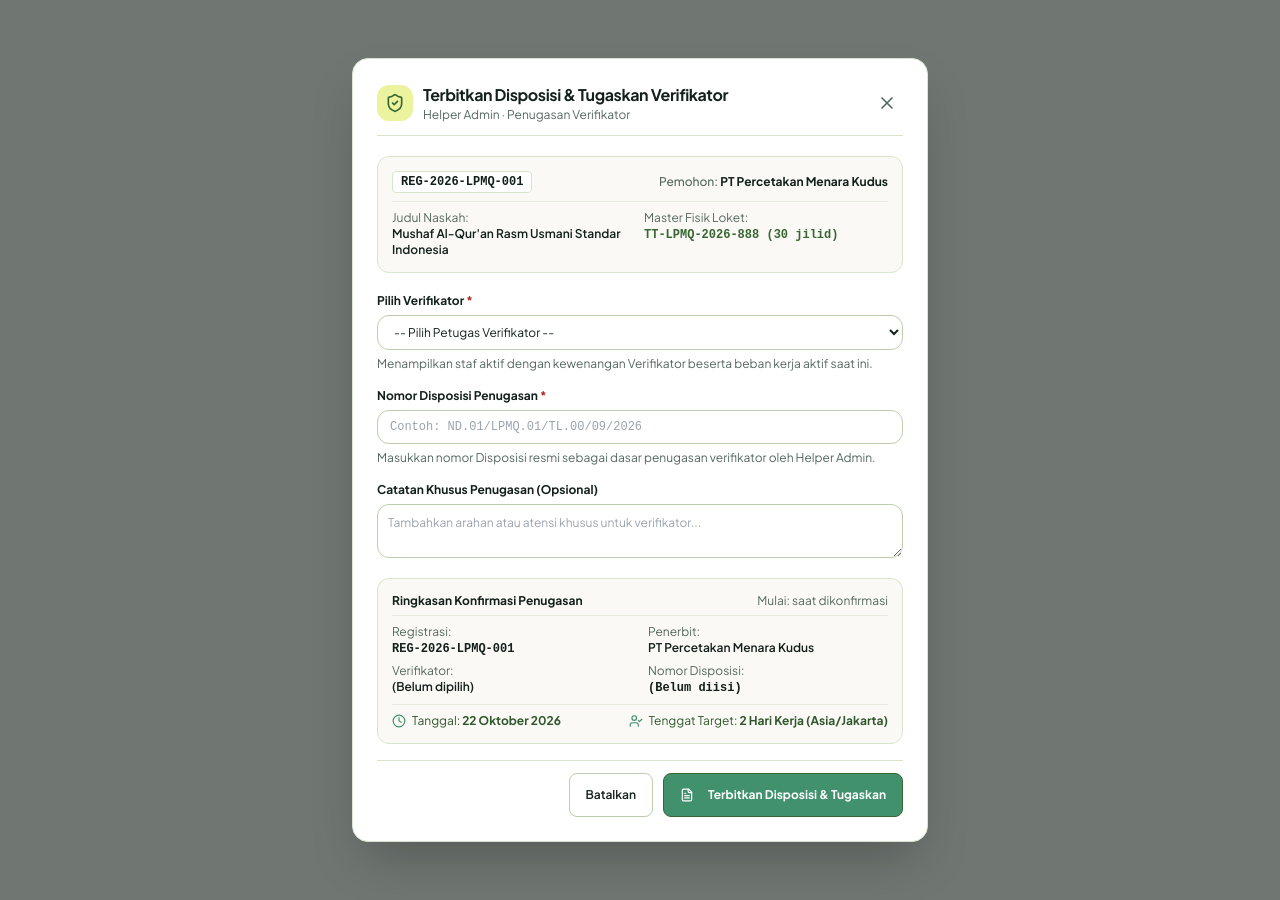
Scenario: AssignVerificationDialog Component › menampilkan pesan validasi jika nomor Disposisi kosong atau kurang dari 3 karakter
Select "Drs. H. Ahmad Verifikator, M.Ag (NIP: 198001012005011001) · 1 tugas aktif" in the dropdown at (640, 332), box [377,315,903,350]
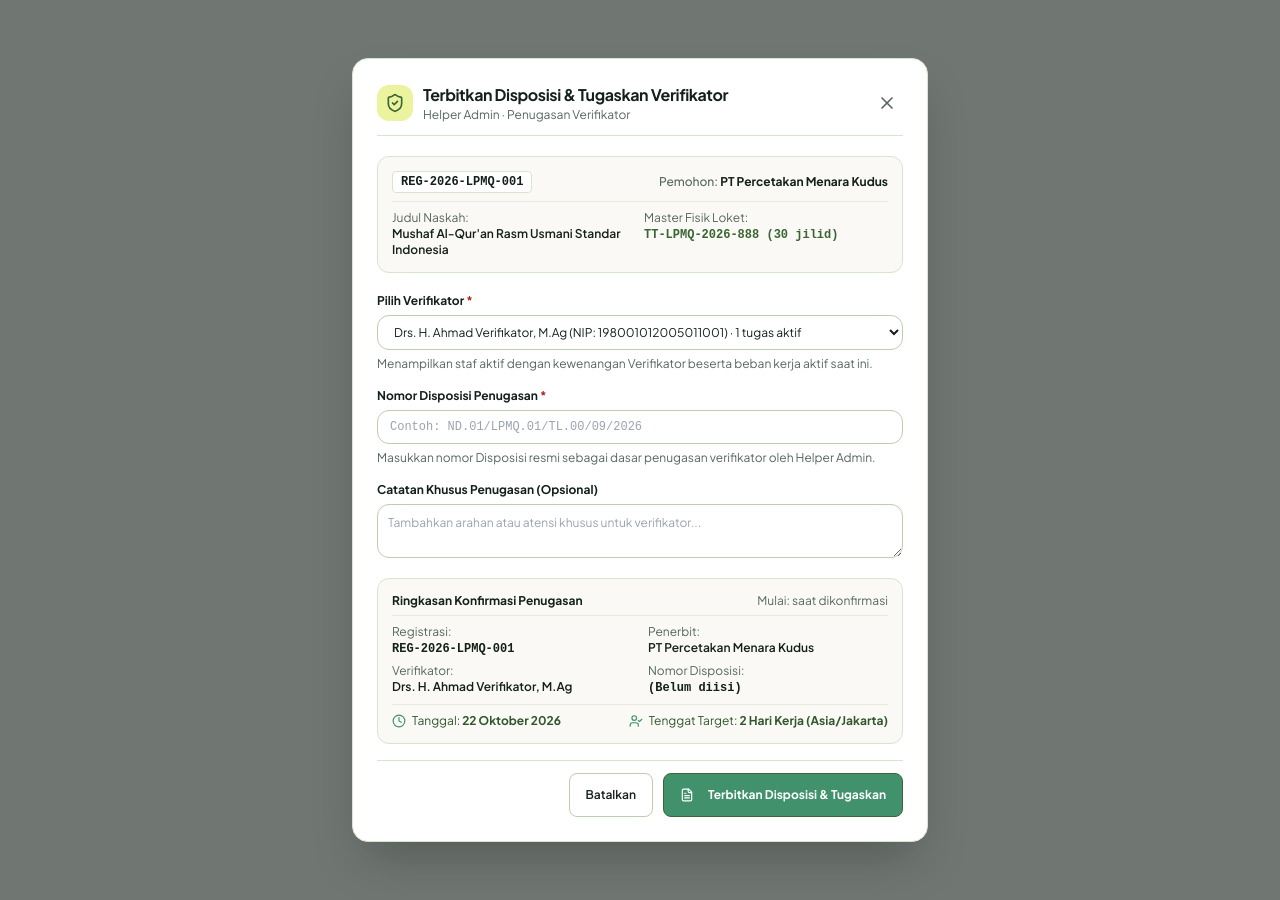
Click the button "Terbitkan Disposisi & Tugaskan" at (783, 795), box [663,773,903,817]
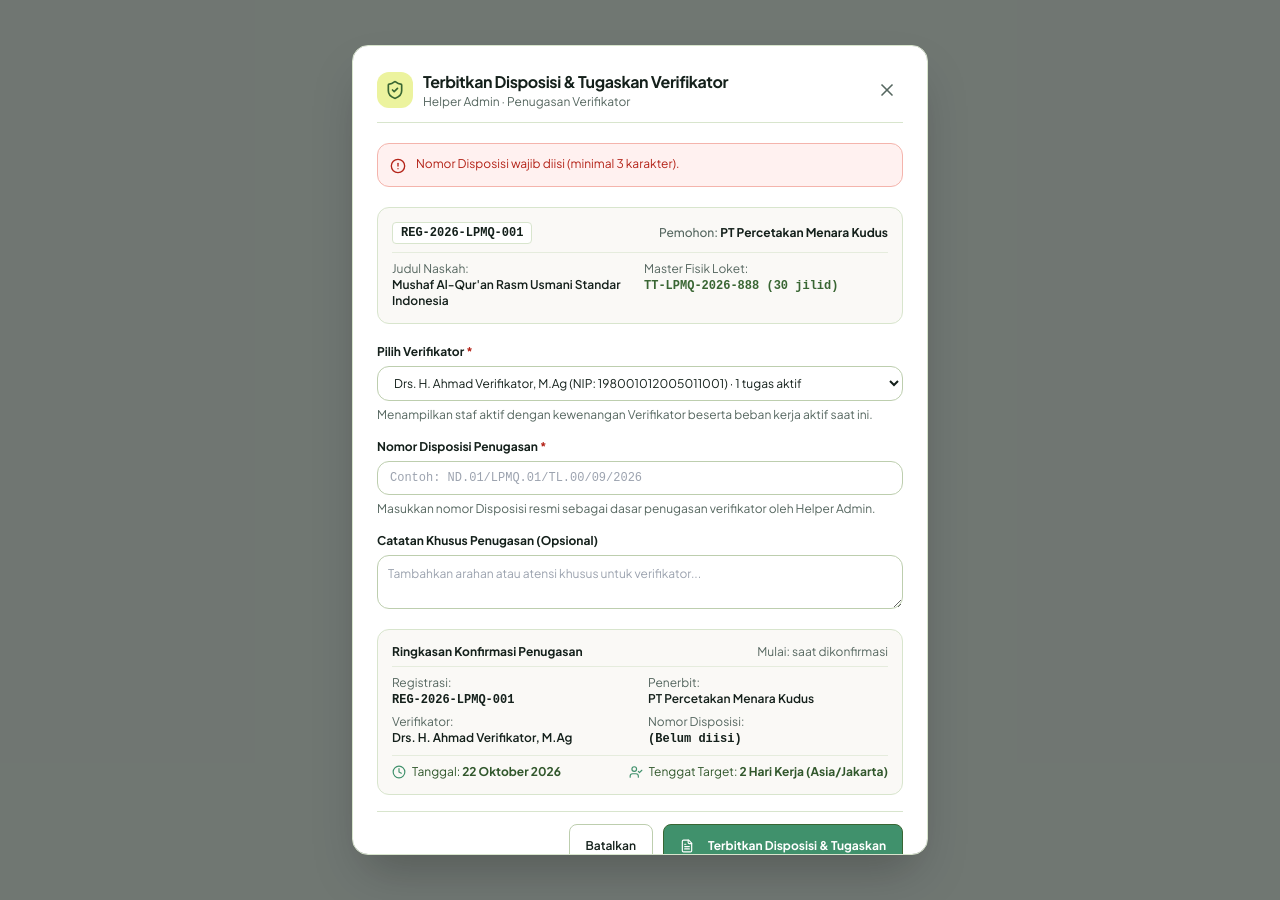
Expected: the text "Nomor Disposisi wajib diisi (minimal 3 karakter)." is shown, [416,156,680,172]
